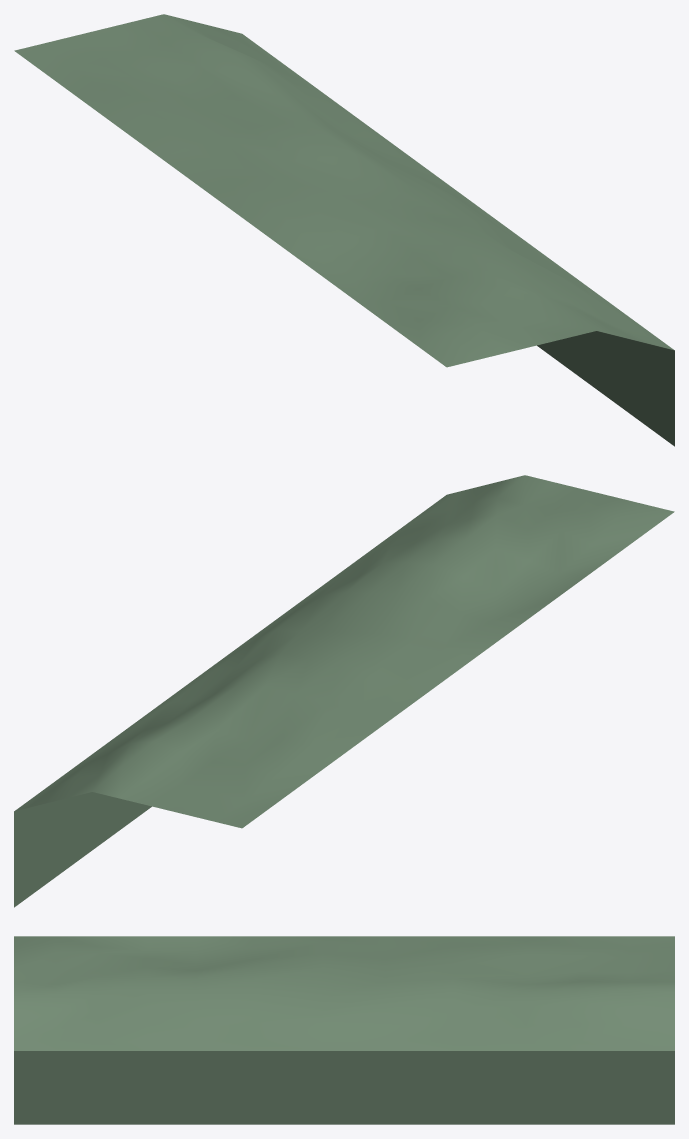
Rendered from LeftSide1.fbx.
3 views of the same model, one above another, from view 1: azimuth 30°, elevation 25°; view 2: azimuth 150°, elevation 25°; view 3: azimuth 270°, elevation 25° (orthographic). The views are drawn at different scales.
Parts seen in each view (by area): view 1: LeftSide1; view 2: LeftSide1; view 3: LeftSide1.
Part boxes in pixels (<box>): LeftSide1: <box>14,14,674,446</box>; LeftSide1: <box>14,475,674,907</box>; LeftSide1: <box>14,936,674,1124</box>.
Bounding box in the file's own units: 60.91 × 36.25 × 200.
